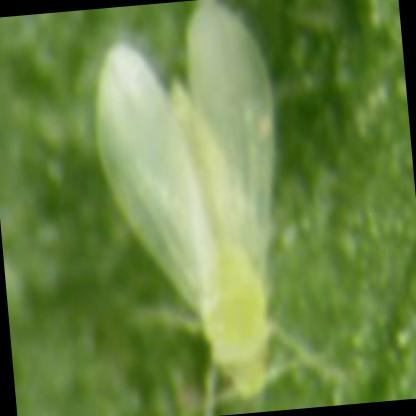whitefly: (98, 1, 273, 405)
